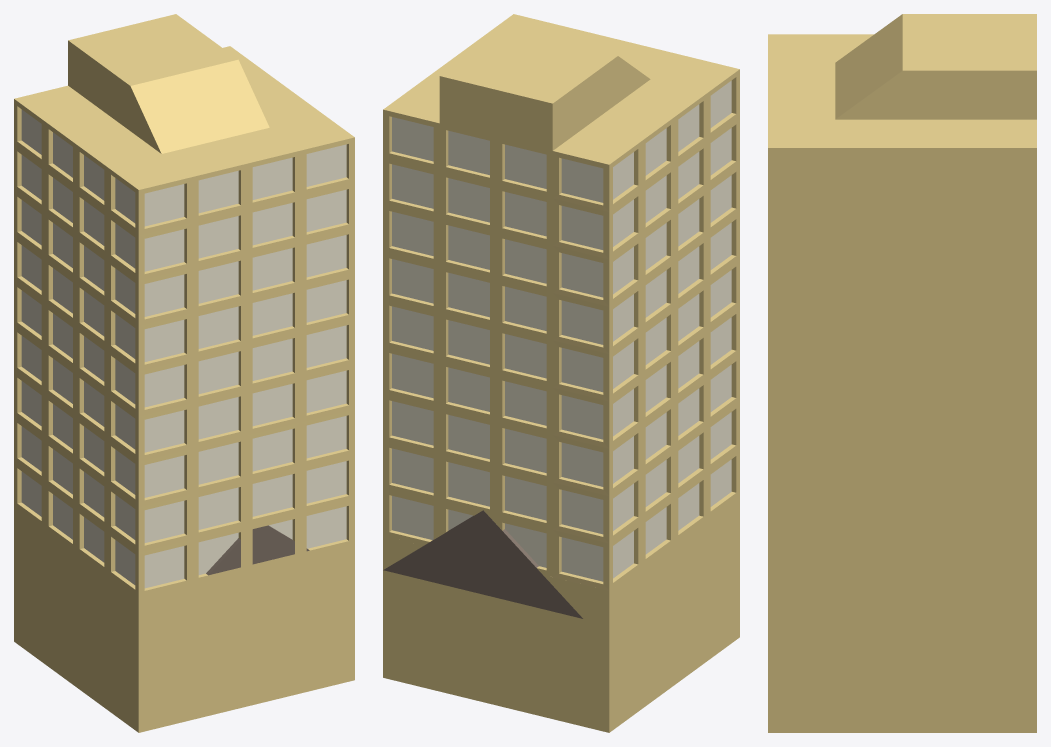
File: Cenarios.fbx_Estruturas.fbx
3 views of the same model, side by side, from view 1: azimuth 30°, elevation 25°; view 2: azimuth 150°, elevation 25°; view 3: azimuth 270°, elevation 25° (orthographic). The views are drawn at different scales.
Visible parts, largest first — view 1: Predio, Casa; view 2: Predio, Casa; view 3: Predio.
Boxes of the visible parts, x1=… form: Predio: x1=14, y1=14, x2=354, y2=732; Casa: x1=206, y1=525, x2=309, y2=575; Predio: x1=383, y1=14, x2=739, y2=732; Casa: x1=383, y1=510, x2=582, y2=618; Predio: x1=768, y1=14, x2=1036, y2=732.
Size of the model in its own units: 500 by 1300 by 500.
